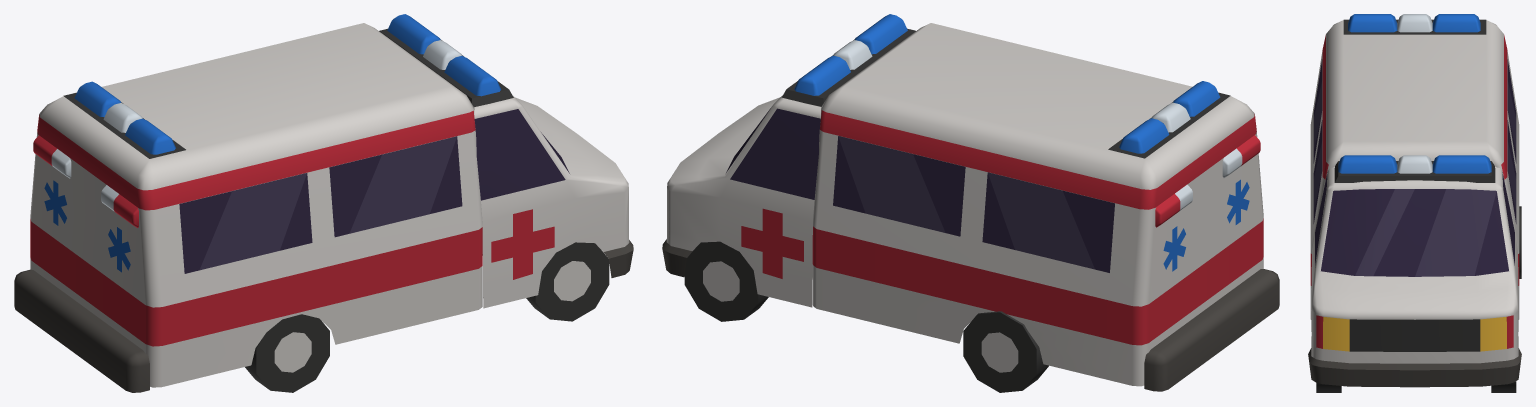
Rendered from XeCapCuu.fbx.
3 renders of one model, left to right at view 1: azimuth 30°, elevation 25°; view 2: azimuth 150°, elevation 25°; view 3: azimuth 270°, elevation 25°, orthographic. The views are drawn at different scales.
Parts seen in each view (by area): view 1: XeCapCuu; view 2: XeCapCuu; view 3: XeCapCuu.
Boxes of the visible parts, x1,y1,x2,y2 form: XeCapCuu: [14, 14, 633, 392]; XeCapCuu: [662, 14, 1279, 392]; XeCapCuu: [1308, 14, 1521, 392].
Size of the model in its own units: 19.35 by 9.51 by 8.44.
